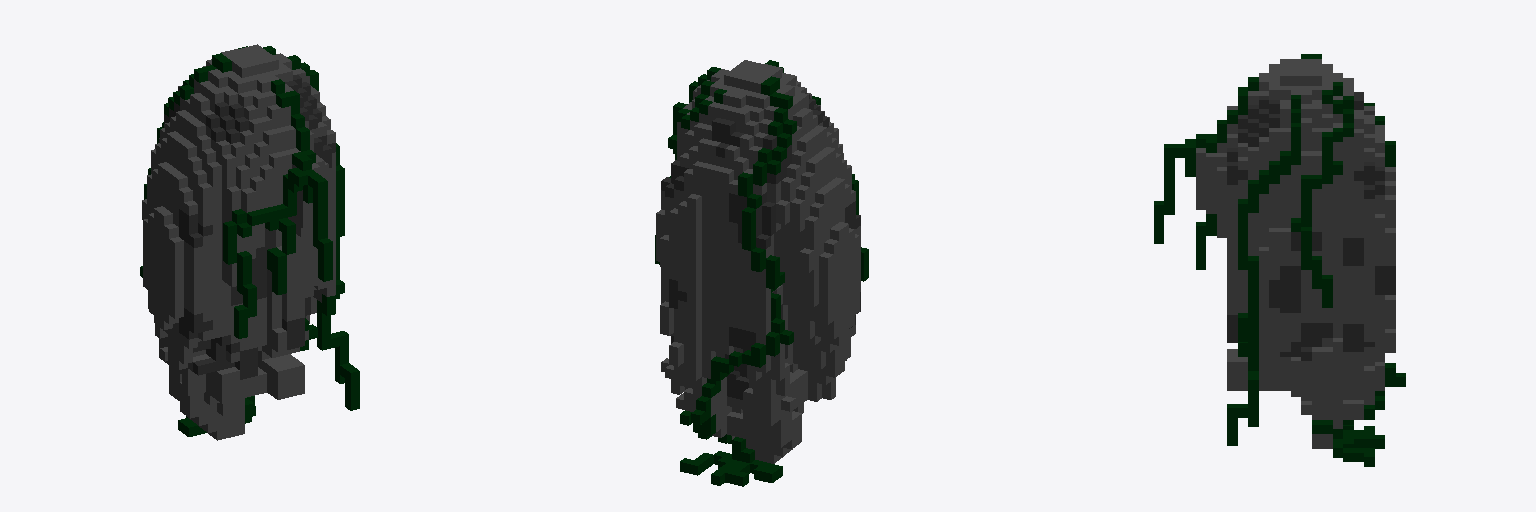
3 views of the same model, side by side, from view 1: azimuth 30°, elevation 25°; view 2: azimuth 150°, elevation 25°; view 3: azimuth 270°, elevation 25° (orthographic).
Visible parts, largest first — view 1: object 1; view 2: object 1; view 3: object 1.
Part boxes in pixels (bbox=[...]): object 1: bbox=[140, 44, 359, 440]; object 1: bbox=[655, 60, 868, 486]; object 1: bbox=[1154, 54, 1405, 466].
Size of the model in its own units: 1.9 by 4 by 2.4.
Materials: 1 (1 with a texture image).